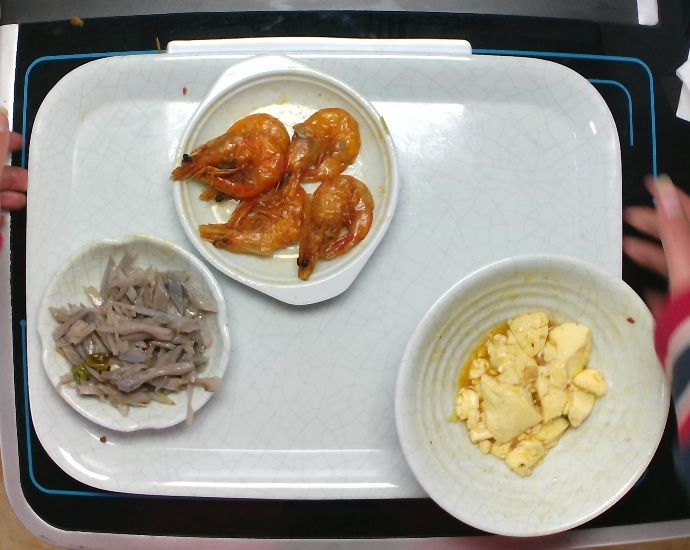JYsf-Ao_Yuan_Wan: (33, 230, 232, 435)
JYsf-Shuang_Er_Pan: (170, 52, 401, 307)
JYsf-Xiao_Tang_Wan: (391, 248, 673, 541)
